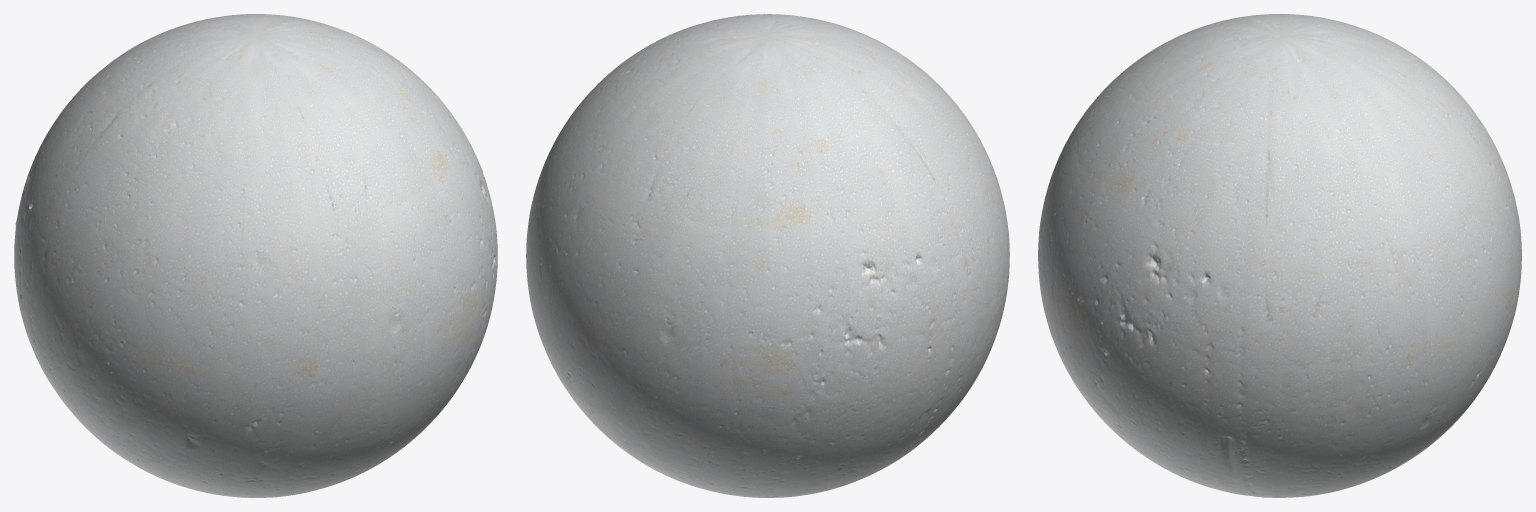
The model's file is polystyrene_2k.gltf.
The picture shows the model from 3 angles, left to right: view 1: azimuth 30°, elevation 25°; view 2: azimuth 150°, elevation 25°; view 3: azimuth 270°, elevation 25°; orthographic projection.
Parts seen in each view (by area): view 1: sphere_gltf; view 2: sphere_gltf; view 3: sphere_gltf.
Part boxes in pixels (box(x1,y1,x2,y2)): sphere_gltf: box(14, 14, 497, 497); sphere_gltf: box(526, 14, 1009, 497); sphere_gltf: box(1038, 14, 1521, 497).
Bounding box in the file's own units: 1.52 × 1.52 × 1.52.
1 material, 1 textured.
